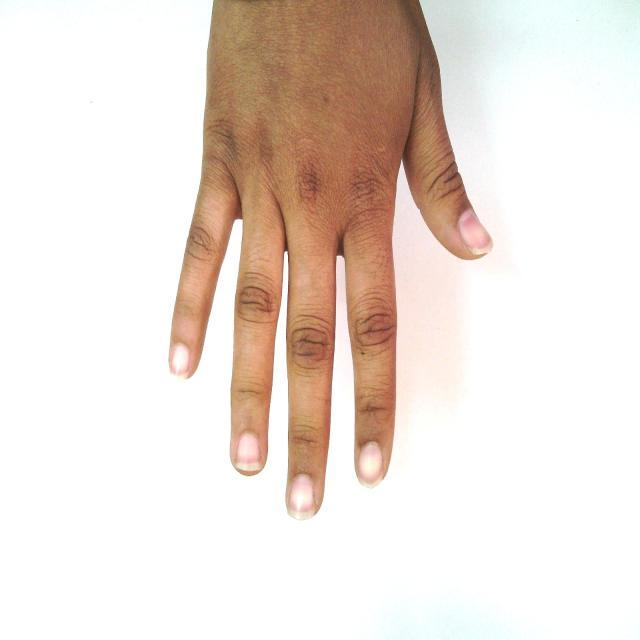Fingernail: (459, 210, 491, 253), (288, 474, 315, 518), (358, 443, 382, 485), (236, 433, 260, 471), (171, 345, 189, 377)
